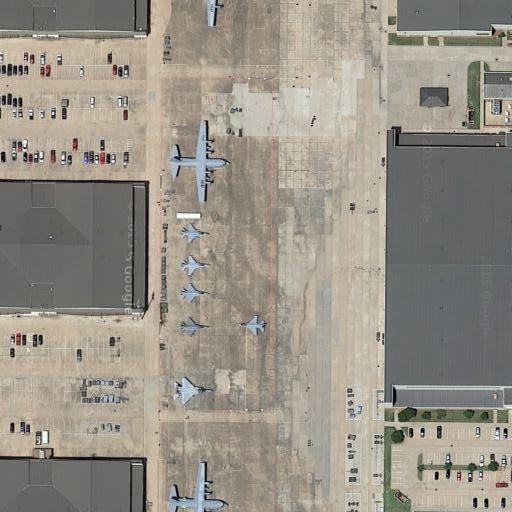C-130: (165, 119, 228, 206), (161, 461, 229, 512)
F-16: (176, 219, 214, 247), (237, 311, 270, 340), (176, 279, 211, 305), (179, 254, 213, 278), (177, 313, 211, 337)
F/A-18: (170, 373, 217, 407)
